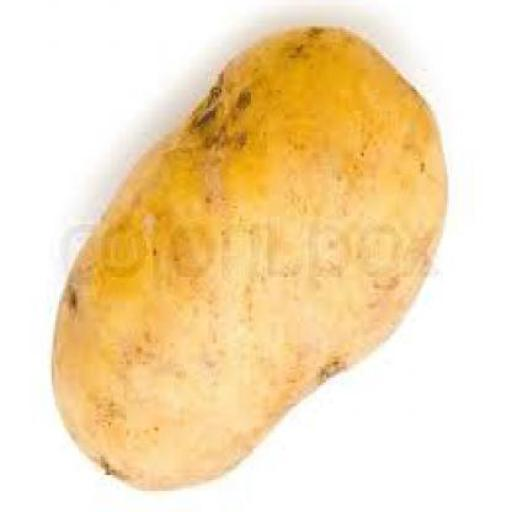biodegradable: (50, 29, 448, 494)
